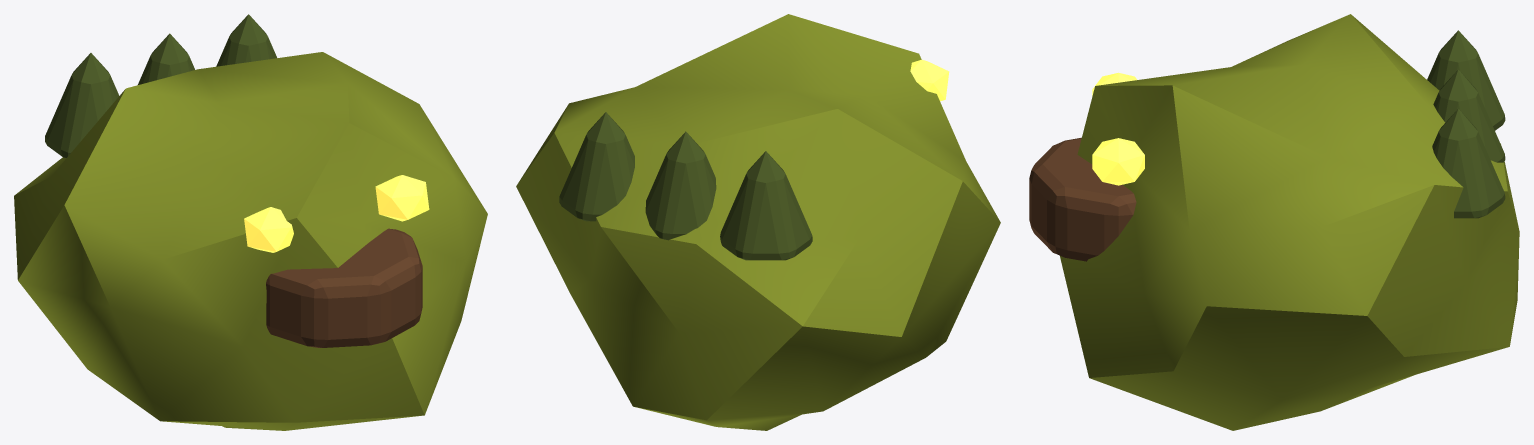
Rendered from enemy_thornling_lobber.glb.
3 views of the same model, side by side, from view 1: azimuth 30°, elevation 25°; view 2: azimuth 150°, elevation 25°; view 3: azimuth 270°, elevation 25° (orthographic).
Parts seen in each view (by area): view 1: Body, Mouth, Back0, EyeR, Back2, EyeL, Back1; view 2: Body, Back0, Back2, Back1, EyeL; view 3: Body, Mouth, Back2, Back0, Back1, EyeR.
Boxes of the visible parts, bbox=[...] form: Body: bbox=[14, 52, 487, 430]; Mouth: bbox=[266, 228, 422, 347]; Back0: bbox=[45, 53, 119, 158]; EyeR: bbox=[375, 175, 429, 221]; Back2: bbox=[216, 14, 276, 66]; EyeL: bbox=[244, 207, 293, 252]; Back1: bbox=[138, 33, 194, 84]; Body: bbox=[516, 14, 1000, 430]; Back0: bbox=[720, 151, 812, 260]; Back2: bbox=[559, 112, 634, 221]; Back1: bbox=[645, 131, 716, 240]; EyeL: bbox=[910, 59, 949, 101]; Body: bbox=[1060, 14, 1519, 430]; Mouth: bbox=[1029, 137, 1136, 261]; Back2: bbox=[1432, 108, 1505, 218]; Back0: bbox=[1427, 30, 1505, 130]; Back1: bbox=[1433, 69, 1505, 162]; EyeR: bbox=[1092, 138, 1144, 185].
Size of the model in its own units: 0.6108 by 0.5078 by 0.6348.
